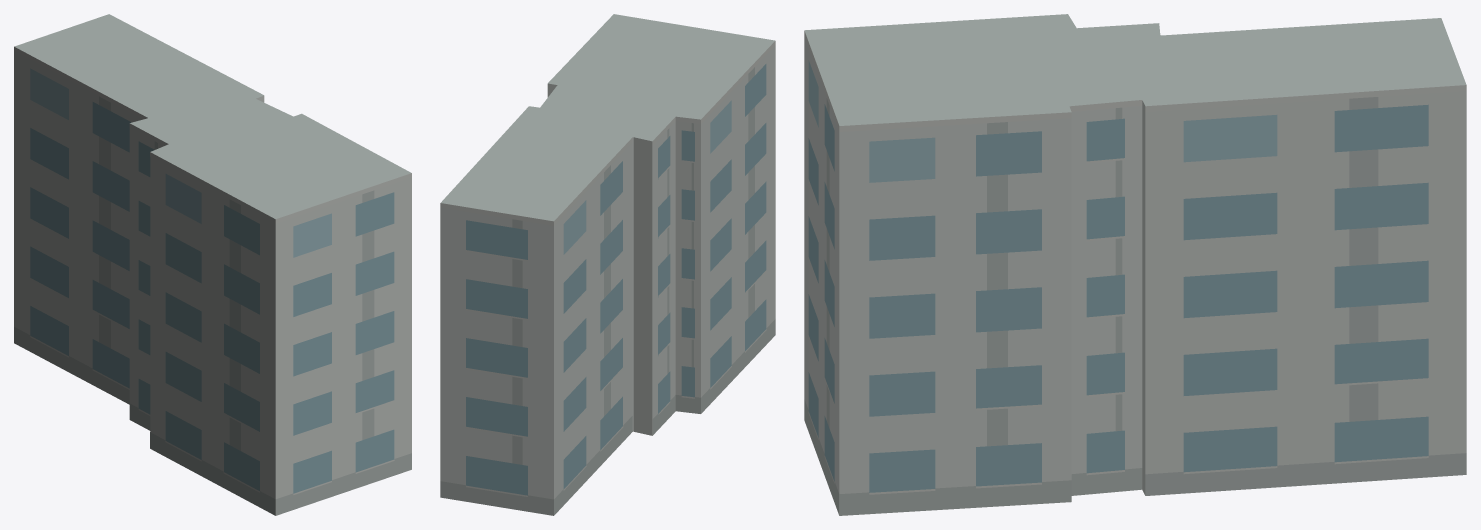
File: survey-upis-32698999.glb
3 renders of one model, left to right at view 1: azimuth 30°, elevation 25°; view 2: azimuth 150°, elevation 25°; view 3: azimuth 270°, elevation 25°, orthographic. The views are drawn at different scales.
Visible parts, largest first — view 1: survey-upis-32698999.tmp; view 2: survey-upis-32698999.tmp; view 3: survey-upis-32698999.tmp.
Boxes of the visible parts, x1,y1,x2,y2 form: survey-upis-32698999.tmp: (14,14,411,515); survey-upis-32698999.tmp: (440,14,775,515); survey-upis-32698999.tmp: (804,14,1466,515).
Size of the model in its own units: 9.81 by 15.9 by 24.49.
